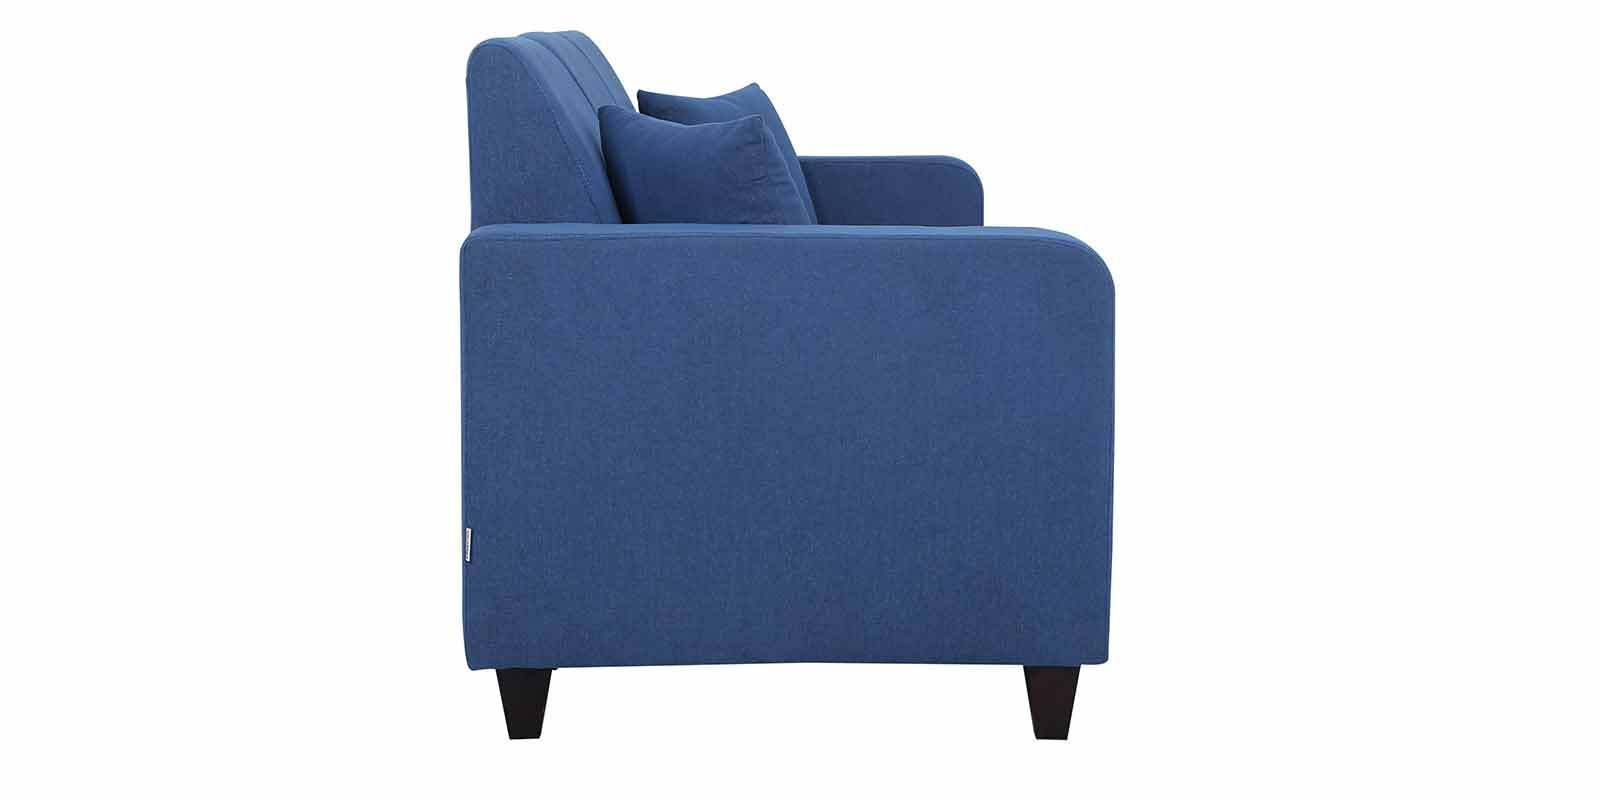Alba Three Seater Sofa in Denim Blue Colour by CasaCraft: (455, 24, 1120, 757)
